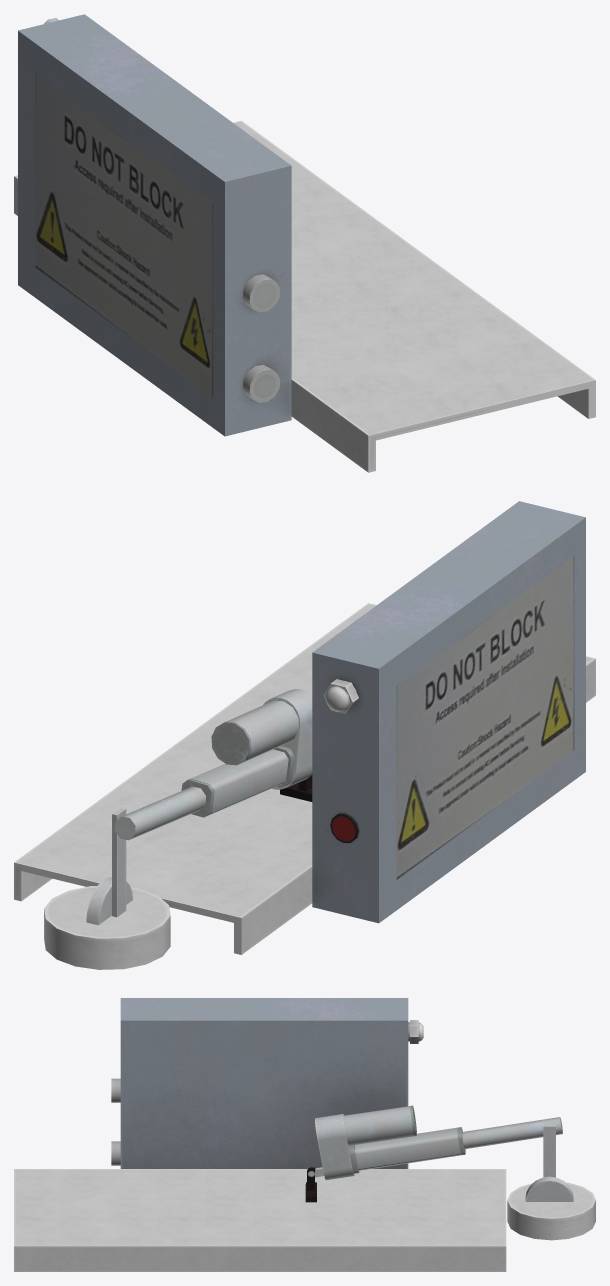
3 renders of one model, top to bottom at view 1: azimuth 30°, elevation 25°; view 2: azimuth 150°, elevation 25°; view 3: azimuth 270°, elevation 25°, orthographic. The views are drawn at different scales.
Visible parts, largest first — view 1: _10022_baihezi; view 2: _10022_baihezi; view 3: _10022_baihezi.
Part boxes in pixels (left/top/right/bottom): _10022_baihezi: left=14, top=14, right=595, bottom=472; _10022_baihezi: left=14, top=501, right=595, bottom=969; _10022_baihezi: left=14, top=998, right=595, bottom=1271.
Bounding box in the file's own units: 27.49 × 22.71 × 67.77.
